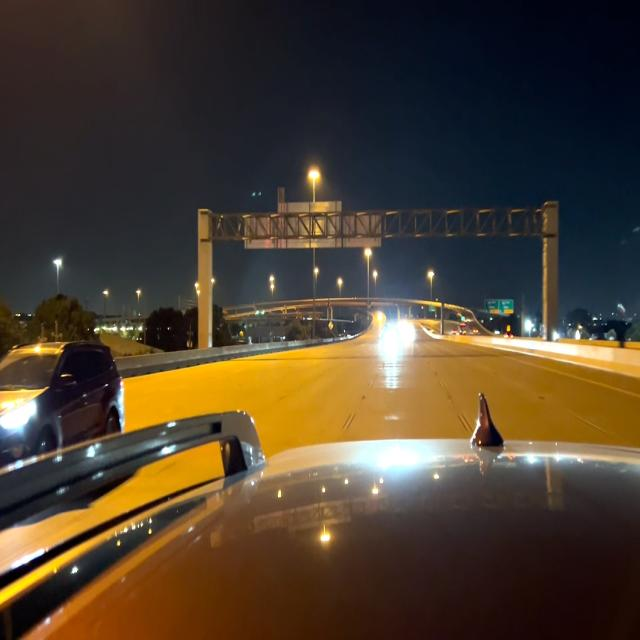back-of-sign: (244, 187, 382, 246)
